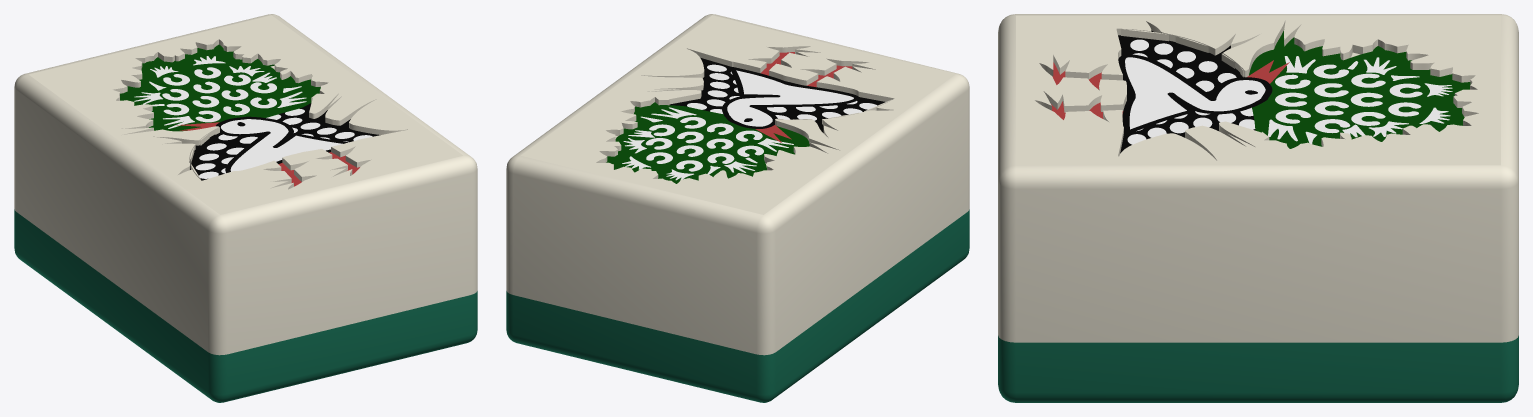
Rendered from Sou1.glb.
The picture shows the model from 3 angles, left to right: view 1: azimuth 30°, elevation 25°; view 2: azimuth 150°, elevation 25°; view 3: azimuth 270°, elevation 25°; orthographic projection. The views are drawn at different scales.
Visible parts, largest first — view 1: Sou1_body, Sou1_inset; view 2: Sou1_body, Sou1_inset; view 3: Sou1_body, Sou1_inset.
Boxes of the visible parts, x1,y1,x2,y2 form: Sou1_body: (14,14,477,402); Sou1_inset: (120,44,380,186); Sou1_body: (506,14,969,402); Sou1_inset: (606,52,885,183); Sou1_body: (998,14,1518,402); Sou1_inset: (1051,30,1470,153).
Size of the model in its own units: 0.024 by 0.016 by 0.032.
